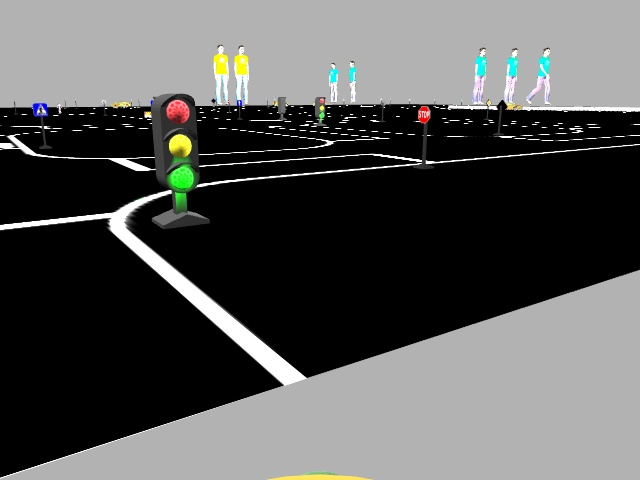Crosswalk: (33, 102, 46, 116)
Stop: (417, 105, 430, 123)
TrafficLight: (150, 93, 197, 191)
